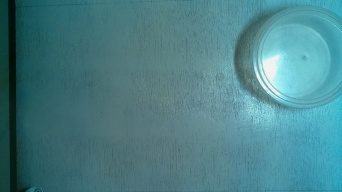f: (248, 4, 342, 111)
